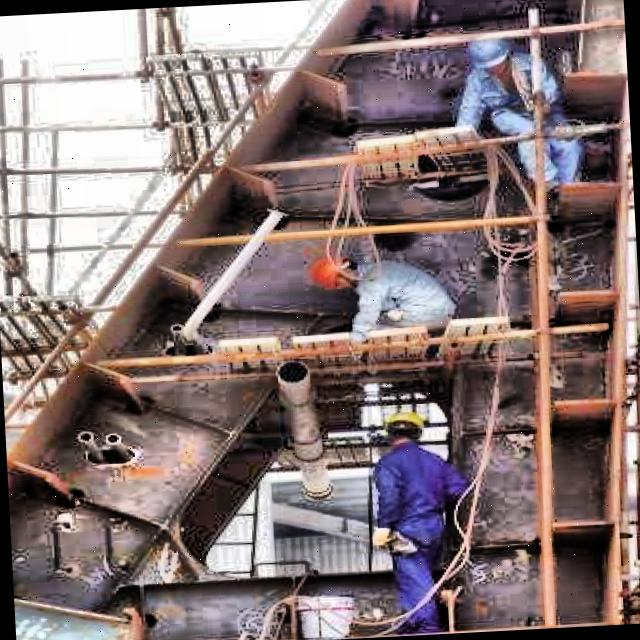helmet: (466, 32, 518, 82), (380, 406, 440, 448), (308, 254, 368, 292)
